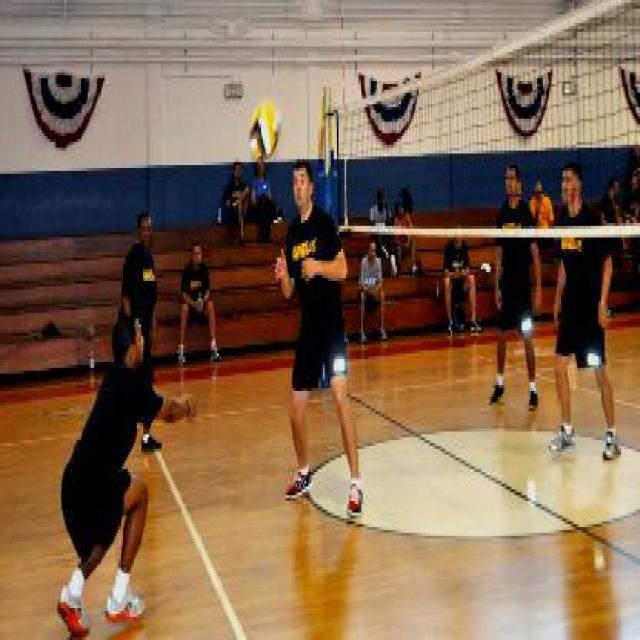volleyball: (248, 99, 284, 162)
